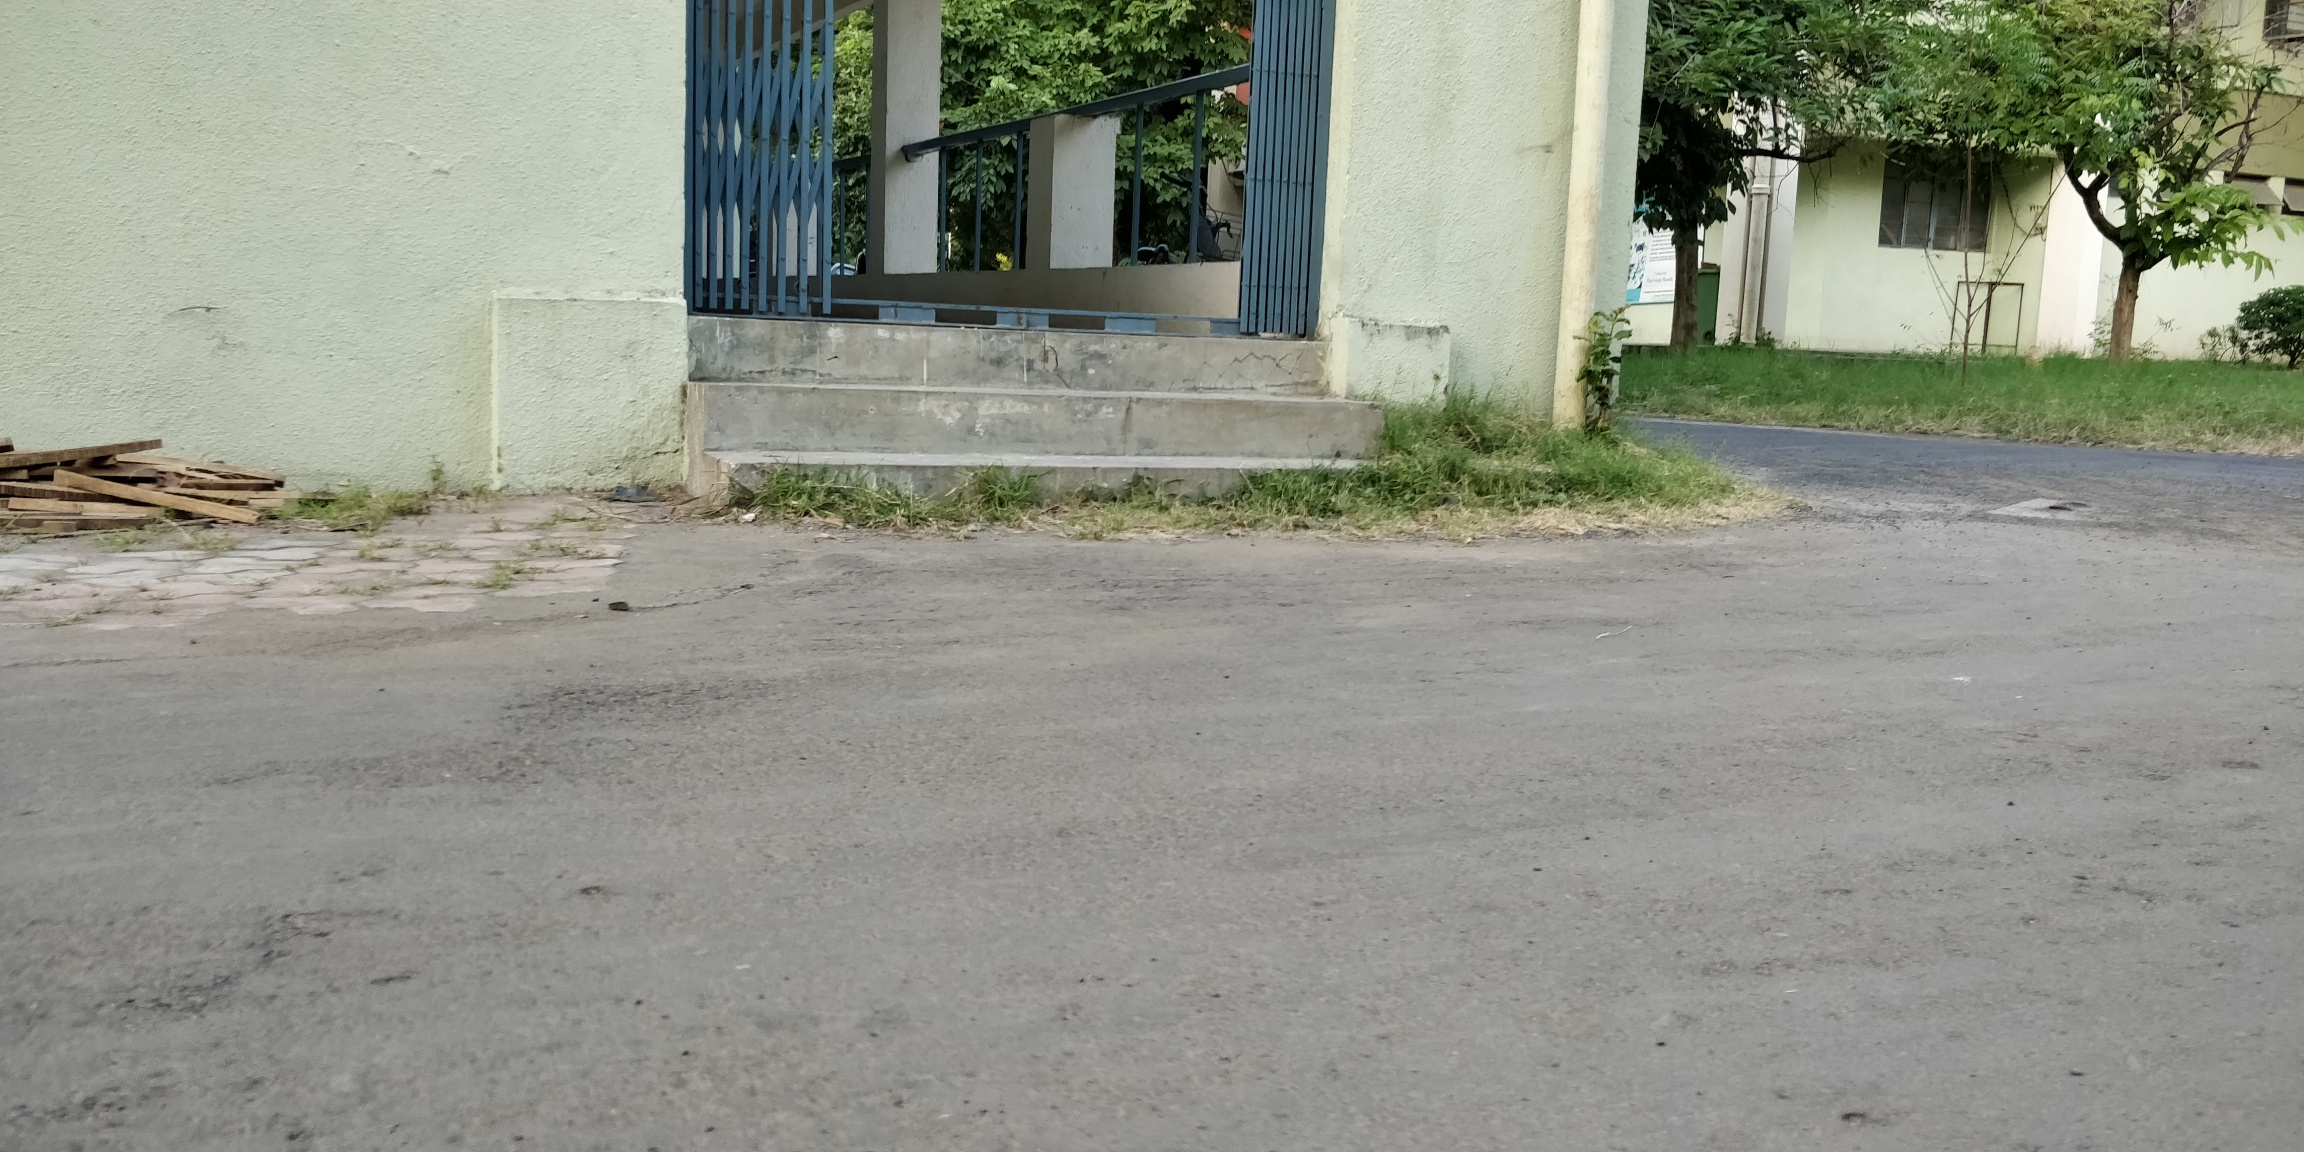stairs_up: (677, 306, 1394, 539)
